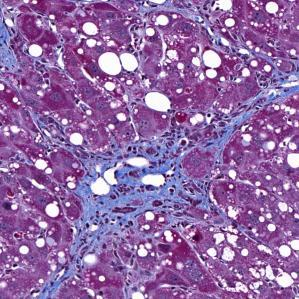fibrosis: (78, 140, 189, 221), (46, 230, 111, 292), (0, 14, 23, 76)
